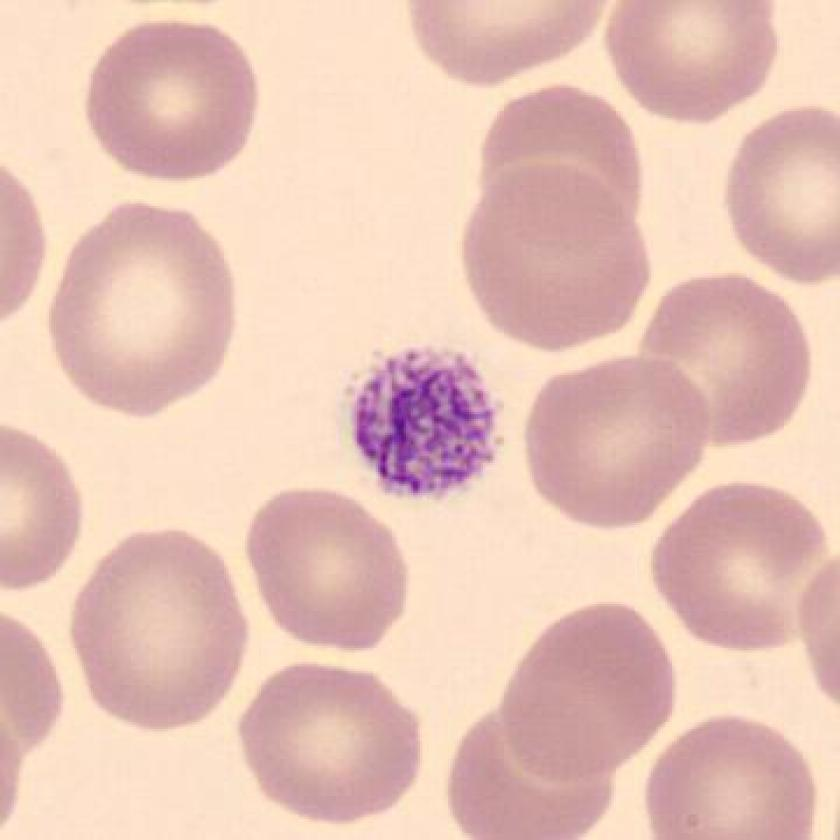platelets: (328, 332, 524, 508)
